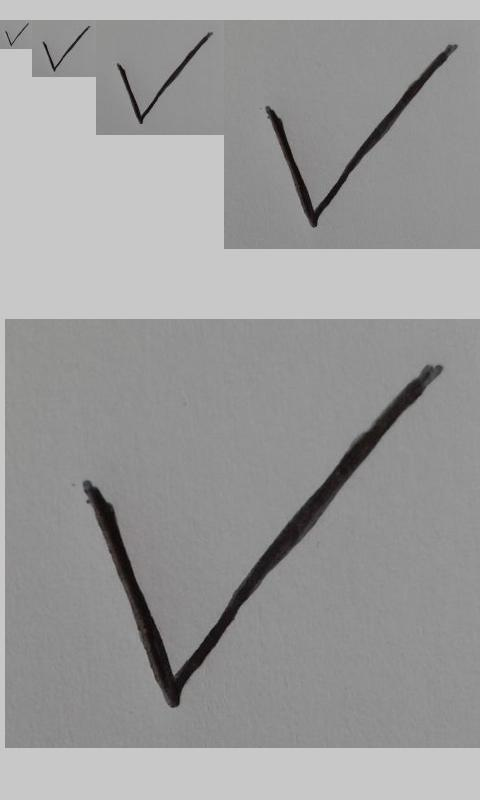check_box: (84, 366, 437, 709), (266, 44, 457, 228), (116, 32, 213, 124), (43, 26, 89, 72), (5, 23, 29, 46)
